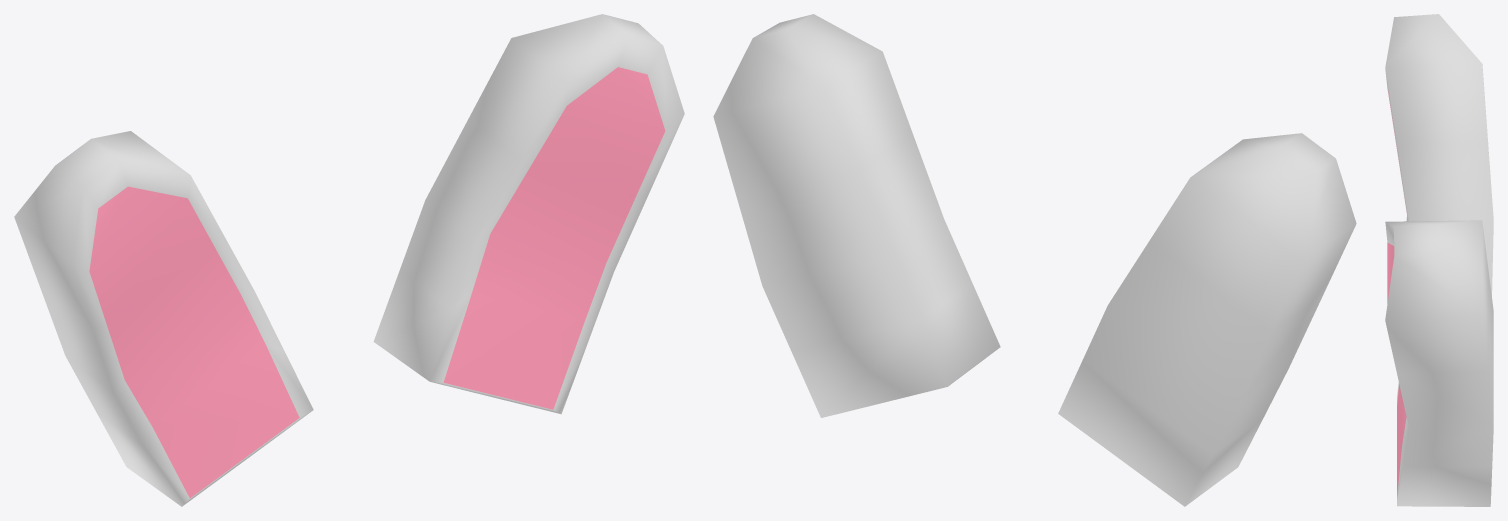
The model's file is accessory-bunnyears.glb.
The picture shows the model from 3 angles, left to right: view 1: azimuth 30°, elevation 25°; view 2: azimuth 150°, elevation 25°; view 3: azimuth 270°, elevation 25°; orthographic projection. The views are drawn at different scales.
Visible parts, largest first — view 1: accessory__Cube__0; view 2: accessory__Cube__0; view 3: accessory__Cube__0.
Part boxes in pixels (bbox=[...]): accessory__Cube__0: bbox=[14, 14, 684, 506]; accessory__Cube__0: bbox=[713, 14, 1356, 506]; accessory__Cube__0: bbox=[1385, 14, 1493, 506].
Bounding box in the file's own units: 0.5875 × 0.3356 × 0.1068.
